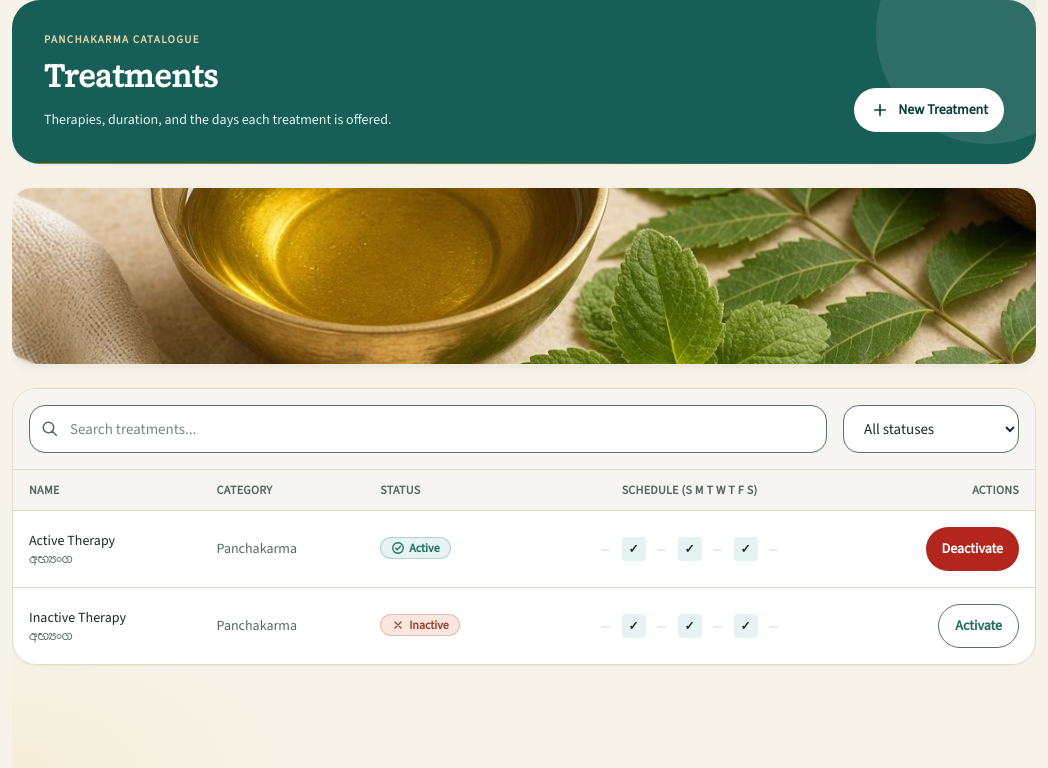
Test: TreatmentsView › filters treatments by status (all, active, inactive)
Expected: the text "Active Therapy" is shown, [29,531,115,550]
Expected: the text "Inactive Therapy" is shown, [29,608,126,627]
Filter to active only
Select "Active only" in the dropdown named "filter by status" at coordinates (931, 429), box [843,405,1019,453]
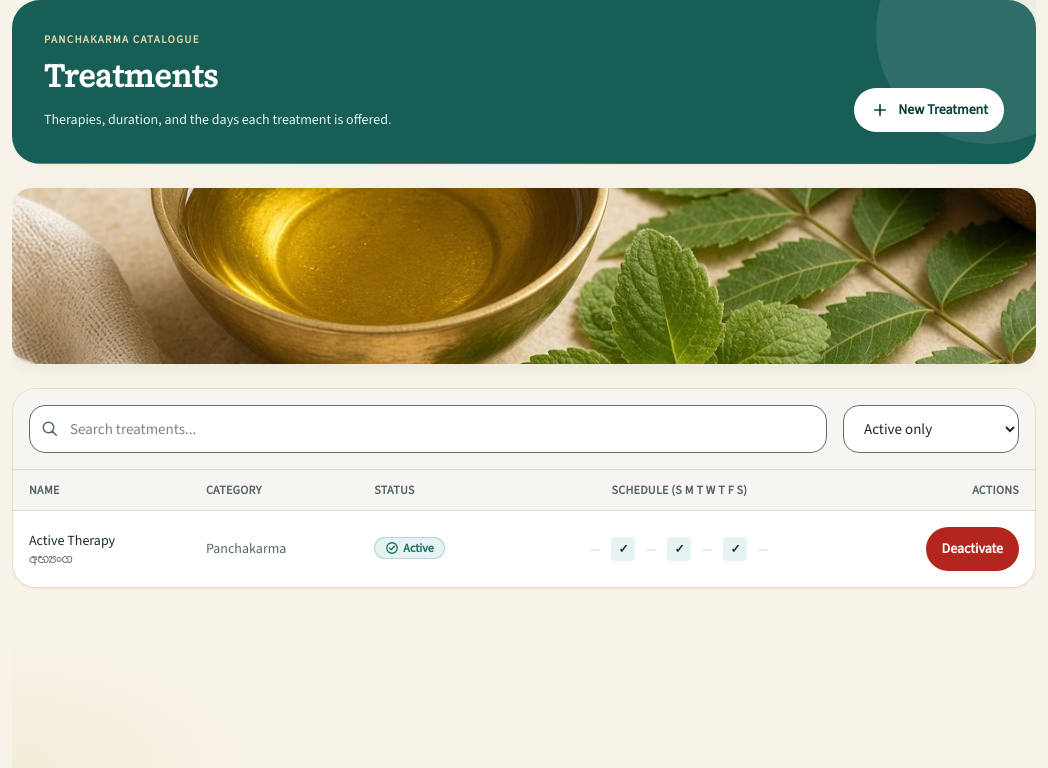
Expected: the text "Active Therapy" is shown, [29,531,115,550]
Result: the text "Inactive Therapy" is gone
Filter to inactive only
Select "Inactive only" in the dropdown named "filter by status" at coordinates (931, 429), box [843,405,1019,453]
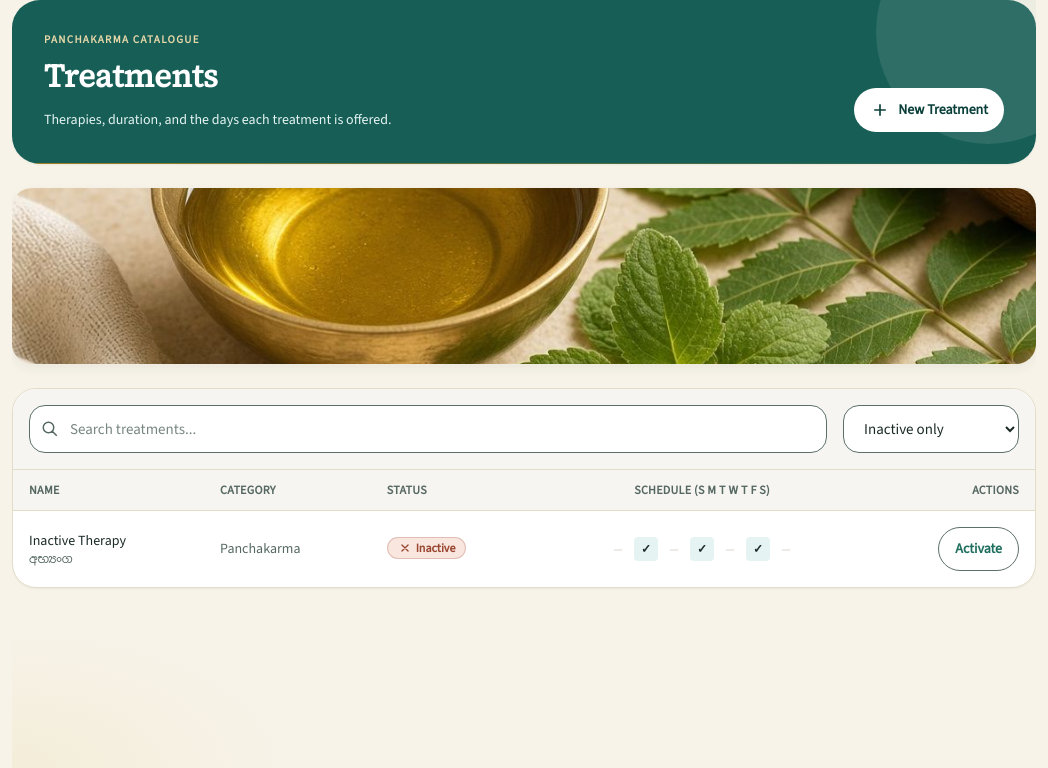
Result: the text "Inactive Therapy" is shown at [29,531,126,550]
